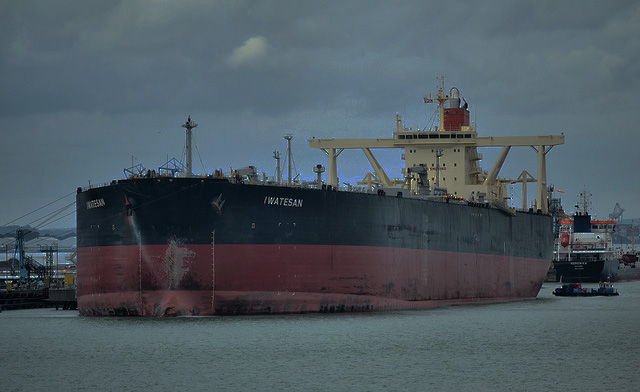boat: (553, 273, 621, 296)
tanker: (77, 71, 558, 315)
